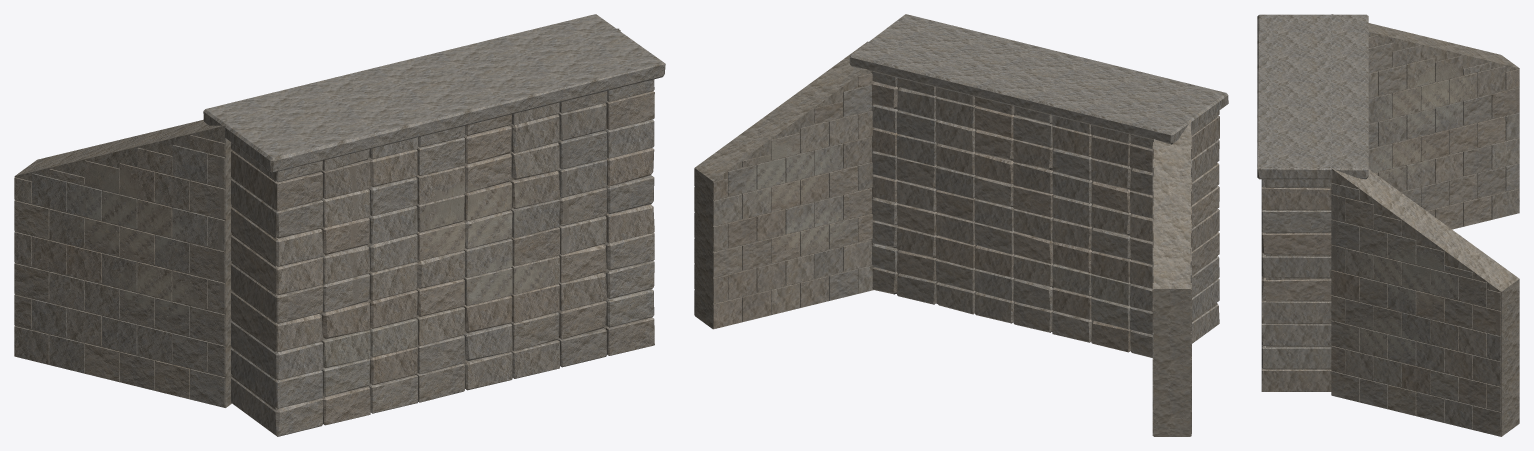
Rendered from Model_BeishaheBridgeAbutment.glb.
The picture shows the model from 3 angles, left to right: view 1: azimuth 30°, elevation 25°; view 2: azimuth 150°, elevation 25°; view 3: azimuth 270°, elevation 25°; orthographic projection. The views are drawn at different scales.
Visible parts, largest first — view 1: Shared_AbutmentNorth, Shared_MasonryOldWashNorth, Shared_MasonryRewashNorth; view 2: Shared_AbutmentNorth, Shared_MasonryOldWashNorth, Shared_MasonryRewashNorth; view 3: Shared_AbutmentNorth, Shared_MasonryOldWashNorth, Shared_MasonryRewashNorth.
Boxes of the visible parts, x1=… form: Shared_AbutmentNorth: x1=14, y1=14, x2=665, y2=436; Shared_MasonryOldWashNorth: x1=14, y1=101, x2=569, y2=323; Shared_MasonryRewashNorth: x1=86, y1=163, x2=482, y2=222; Shared_AbutmentNorth: x1=694, y1=14, x2=1228, y2=436; Shared_MasonryOldWashNorth: x1=730, y1=140, x2=1191, y2=346; Shared_MasonryRewashNorth: x1=756, y1=138, x2=800, y2=170; Shared_AbutmentNorth: x1=1257, y1=14, x2=1519, y2=436; Shared_MasonryOldWashNorth: x1=1331, y1=69, x2=1519, y2=360; Shared_MasonryRewashNorth: x1=1402, y1=63, x2=1461, y2=281.
Bounding box in the file's own units: 9.6 × 4.28 × 4.48.
Materials: 3 (3 with a texture image).
